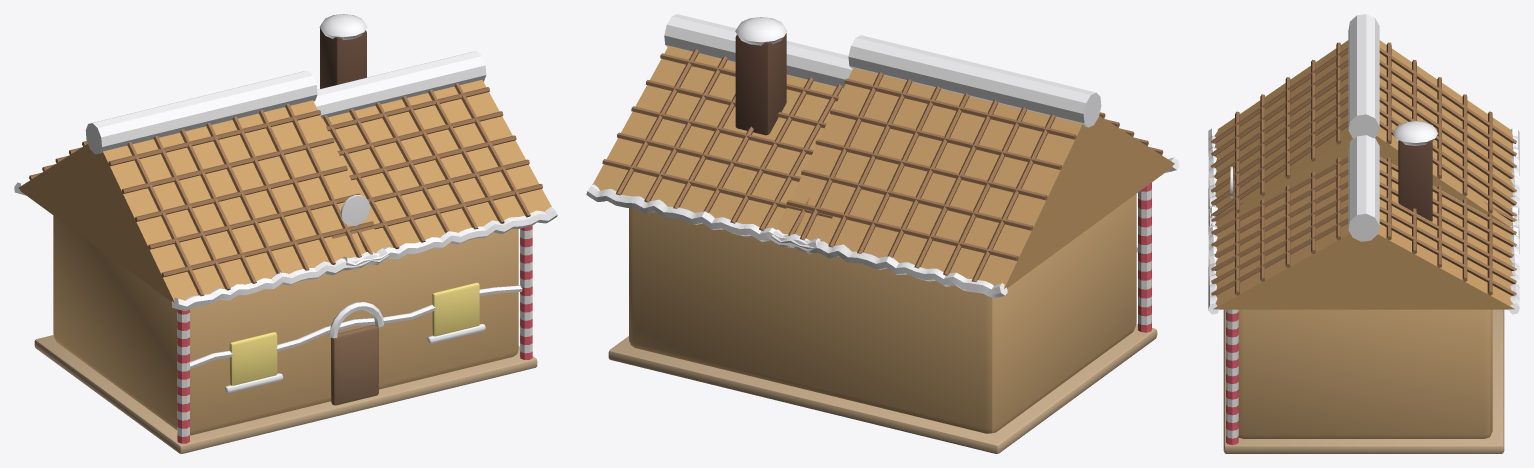
Rendered from GingerHouse_Twin.fbx.
The picture shows the model from 3 angles, left to right: view 1: azimuth 30°, elevation 25°; view 2: azimuth 150°, elevation 25°; view 3: azimuth 270°, elevation 25°; orthographic projection. The views are drawn at different scales.
Parts seen in each view (by area): view 1: GingerHouse_Twin; view 2: GingerHouse_Twin; view 3: GingerHouse_Twin.
Part boxes in pixels (<box>): GingerHouse_Twin: <box>14,14,557,453</box>; GingerHouse_Twin: <box>586,14,1179,453</box>; GingerHouse_Twin: <box>1208,14,1519,453</box>.
Size of the model in its own units: 14.8 by 11.02 by 10.89.
